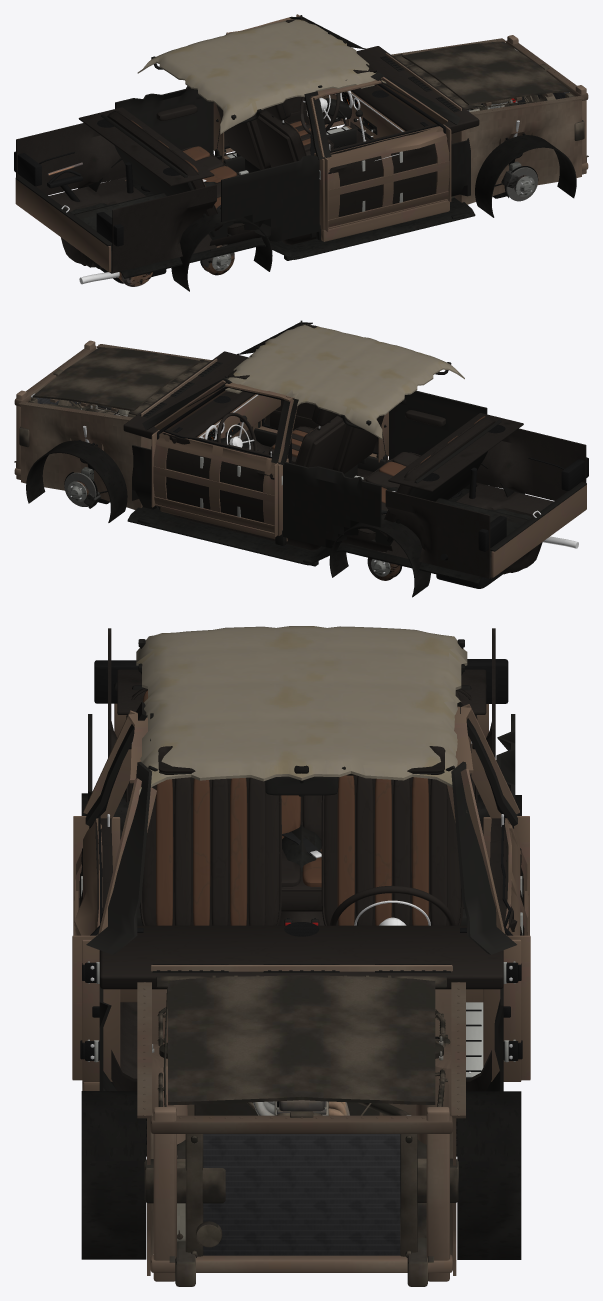
File: lambari_completo.glb
3 views of the same model, one above another, from view 1: azimuth 30°, elevation 25°; view 2: azimuth 150°, elevation 25°; view 3: azimuth 270°, elevation 25° (orthographic). The views are drawn at different scales.
Visible parts, largest first — view 1: interior_portamalas_carpete, interior_forro_teto, engine_paralama_interno_dir, interior_lateral_traseira_dir, door_card_fr_chapa, hood_manta, interior_painel, under_assoalho, door_card_fr, interior_banco_traseiro, interior_lateral_traseira_esq, interior_portamalas_tampao (+18 smaller); view 2: interior_portamalas_carpete, interior_forro_teto, engine_paralama_interno_esq, interior_lateral_traseira_esq, hood_manta, door_card_fl_chapa, under_assoalho, interior_painel, door_card_fl, interior_banco_traseiro, interior_lateral_traseira_dir, interior_portamalas_tampao (+19 smaller); view 3: interior_forro_teto, hood_manta, engine_radiador, engine_travessa, interior_banco_dianteiro_dir, interior_painel, interior_banco_dianteiro_esq, interior_acabamento_colunas, under_caixa_roda_fr, under_caixa_roda_fl, jamb_fl_colunas, jamb_fr_colunas (+23 smaller).
Boxes of the visible parts, x1,y1,x2,y2 form: interior_portamalas_carpete: [15, 123, 216, 273]; interior_forro_teto: [137, 19, 386, 134]; engine_paralama_interno_dir: [460, 95, 584, 204]; interior_lateral_traseira_dir: [208, 155, 319, 242]; door_card_fr_chapa: [323, 125, 451, 231]; hood_manta: [402, 41, 570, 106]; interior_painel: [321, 46, 479, 141]; under_assoalho: [71, 182, 475, 278]; door_card_fr: [329, 124, 438, 216]; interior_banco_traseiro: [101, 110, 250, 237]; interior_lateral_traseira_esq: [115, 86, 214, 184]; interior_portamalas_tampao: [78, 107, 214, 186]; interior_portamalas_carpete: [385, 428, 586, 578]; interior_forro_teto: [213, 324, 464, 439]; engine_paralama_interno_esq: [18, 401, 141, 509]; interior_lateral_traseira_esq: [283, 462, 393, 548]; hood_manta: [32, 347, 200, 411]; door_card_fl_chapa: [151, 431, 279, 537]; under_assoalho: [127, 487, 531, 584]; interior_painel: [123, 351, 280, 440]; door_card_fl: [163, 429, 272, 522]; interior_banco_traseiro: [352, 416, 501, 542]; interior_lateral_traseira_dir: [387, 390, 487, 489]; interior_portamalas_tampao: [388, 413, 523, 491]; interior_forro_teto: [136, 626, 467, 812]; hood_manta: [168, 975, 435, 1105]; engine_radiador: [185, 1115, 417, 1257]; engine_travessa: [144, 1103, 458, 1281]; interior_banco_dianteiro_dir: [140, 777, 292, 925]; interior_painel: [99, 922, 503, 1002]; interior_banco_dianteiro_esq: [311, 775, 463, 925]; interior_acabamento_colunas: [85, 701, 517, 954]; under_caixa_roda_fr: [81, 1091, 146, 1259]; under_caixa_roda_fl: [457, 1091, 521, 1259]; jamb_fl_colunas: [447, 704, 521, 1081]; jamb_fr_colunas: [82, 710, 156, 1081].
Size of what is drawn, in the model's own units: 3.97 by 1.31 by 1.57.
Materials: 52 (52 with a texture image).
